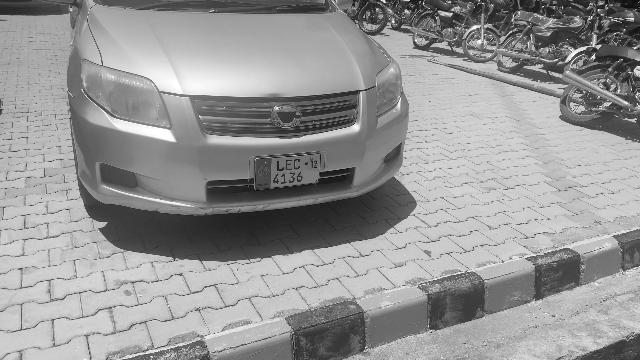Number: (272, 157, 303, 186)
